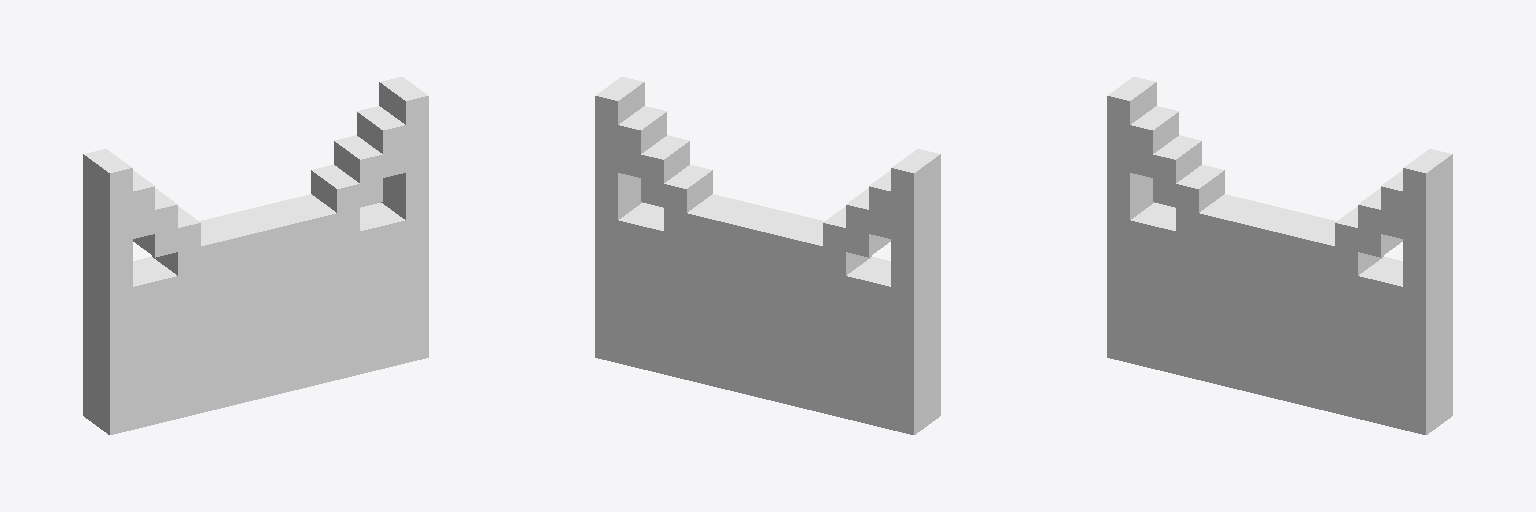
File: little_hospital_bed_door.obj
3 renders of one model, left to right at view 1: azimuth 30°, elevation 25°; view 2: azimuth 150°, elevation 25°; view 3: azimuth 330°, elevation 25°, orthographic.
Visible parts, largest first — view 1: object 1; view 2: object 1; view 3: object 1.
Part boxes in pixels (left/top/right/bottom): object 1: left=83, top=77, right=428, bottom=434; object 1: left=595, top=77, right=940, bottom=434; object 1: left=1107, top=77, right=1452, bottom=434.
Size of the model in its own units: 1.4 by 1.1 by 0.2.